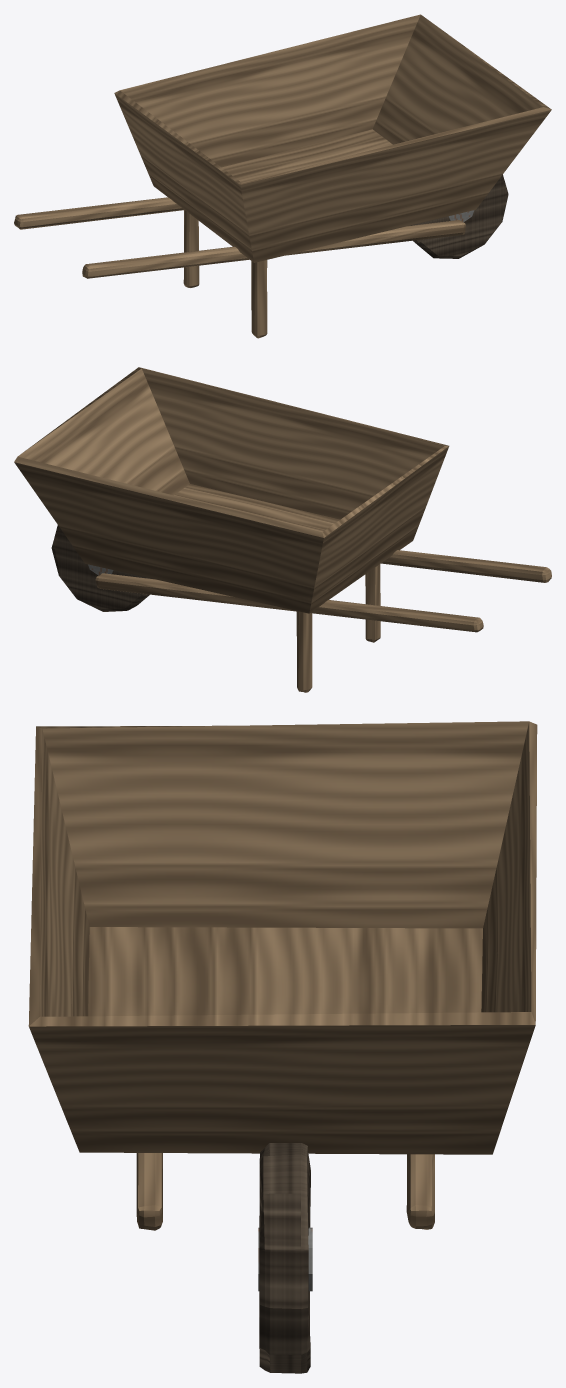
The model's file is wheelbarrow.glb.
3 renders of one model, top to bottom at view 1: azimuth 30°, elevation 25°; view 2: azimuth 150°, elevation 25°; view 3: azimuth 270°, elevation 25°, orthographic. The views are drawn at different scales.
Parts seen in each view (by area): view 1: Wheelbarrow; view 2: Wheelbarrow; view 3: Wheelbarrow.
Boxes of the visible parts, left/top/right/bottom form: Wheelbarrow: left=14, top=14, right=551, bottom=338; Wheelbarrow: left=14, top=367, right=551, bottom=692; Wheelbarrow: left=28, top=721, right=537, bottom=1373.
Bounding box in the file's own units: 1.55 × 0.6174 × 0.7484.
3 materials, 3 textured.
